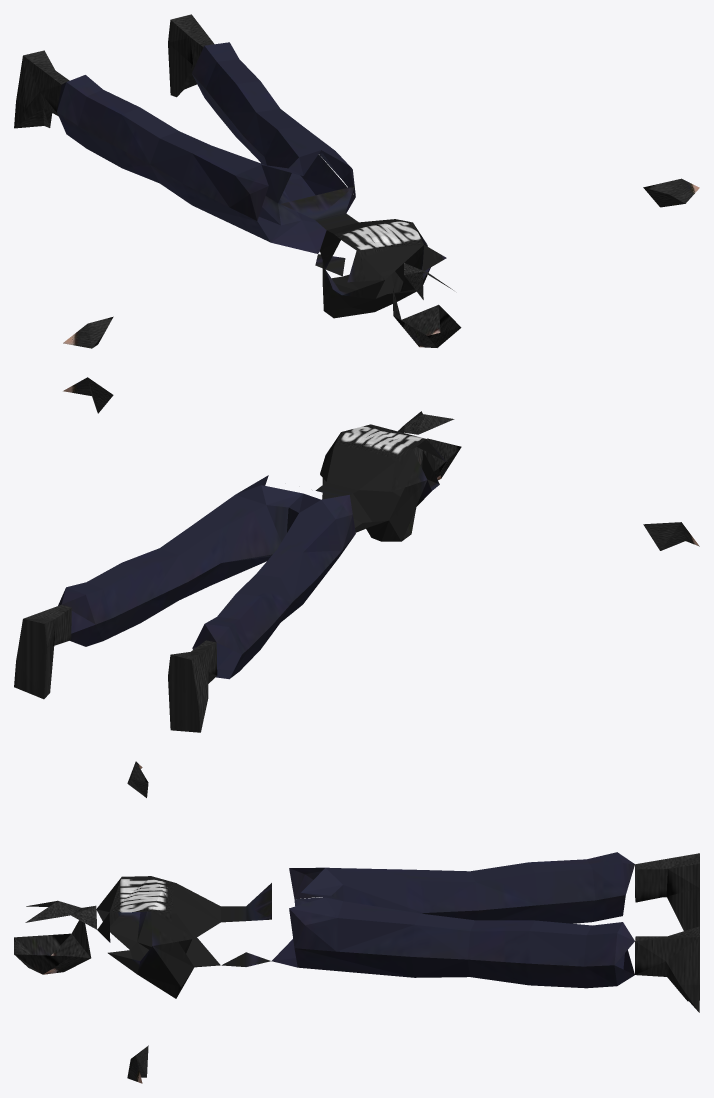
File: swatfemale1klow_wtf.obj
3 renders of one model, top to bottom at view 1: azimuth 30°, elevation 25°; view 2: azimuth 150°, elevation 25°; view 3: azimuth 270°, elevation 25°, orthographic.
Parts seen in each view (by area): view 1: group7, group8, group9, group10, group2, group1, group6, group3, group4; view 2: group7, group9, group8, group10, group1, group2, group4, group6, group3, group5; view 3: group7, group8, group9, group10, group1, group2, group6, group5, group3.
Part boxes in pixels (box(x1,y1,x2,y2)): group7: box(57, 42, 355, 220); group8: box(57, 74, 355, 253); group9: box(281, 186, 446, 282); group10: box(315, 244, 430, 318); group2: box(14, 50, 69, 128); group1: box(168, 14, 214, 97); group6: box(393, 288, 461, 347); group3: box(643, 178, 699, 207); group4: box(63, 316, 113, 348); group7: box(58, 475, 355, 654); group9: box(315, 424, 446, 496); group8: box(70, 536, 353, 679); group10: box(322, 450, 439, 541); group1: box(14, 604, 71, 699); group2: box(168, 640, 217, 732); group4: box(643, 522, 699, 550); group6: box(413, 438, 461, 480); group3: box(63, 377, 113, 413); group5: box(398, 411, 454, 434); group7: box(289, 852, 634, 966); group8: box(271, 895, 634, 988); group9: box(96, 876, 271, 945); group10: box(96, 909, 270, 998); group1: box(635, 926, 699, 1012); group2: box(635, 853, 699, 932); group6: box(14, 920, 91, 974); group5: box(25, 900, 97, 929); group3: box(127, 1045, 148, 1083).
Bounding box in the file's own units: 660 × 97.65 × 605.
